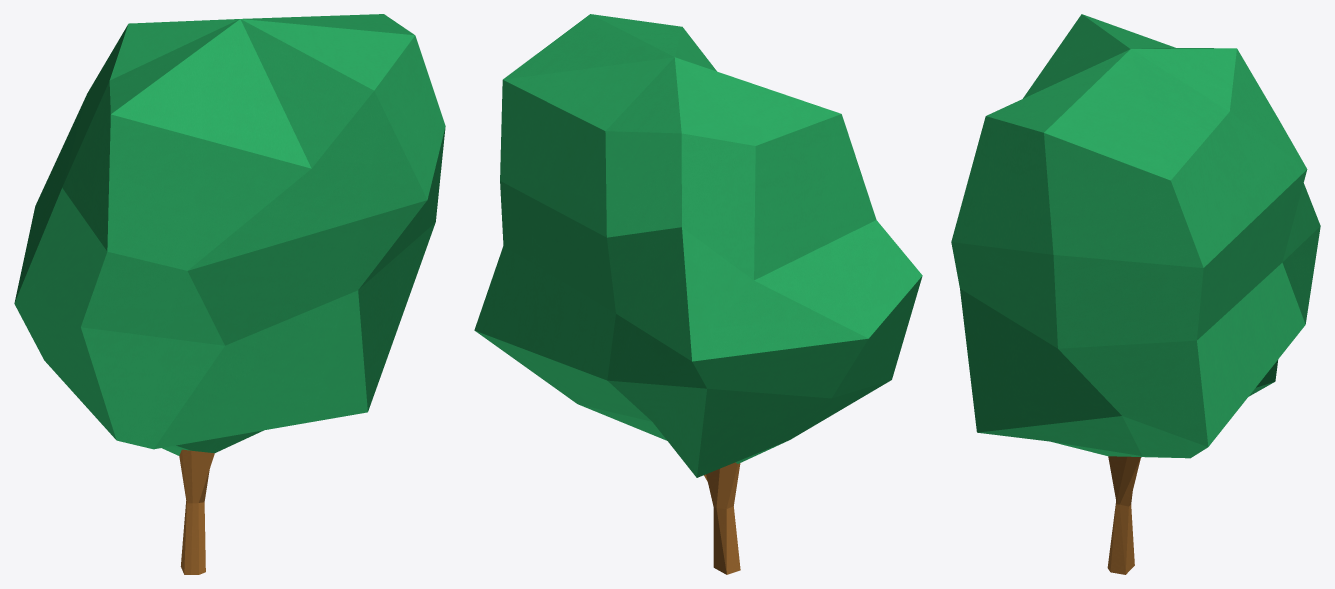
The model's file is Tree.fbx.
3 renders of one model, left to right at view 1: azimuth 30°, elevation 25°; view 2: azimuth 150°, elevation 25°; view 3: azimuth 270°, elevation 25°, orthographic. The views are drawn at different scales.
Parts seen in each view (by area): view 1: Tree_PROXY; view 2: Tree_PROXY; view 3: Tree_PROXY.
Part boxes in pixels (x1,y1,x2,y2): Tree_PROXY: (14, 14, 445, 574); Tree_PROXY: (474, 14, 922, 574); Tree_PROXY: (951, 14, 1320, 574).
Size of the model in its own units: 7.31 by 9.57 by 5.87.
Materials: 2 (2 with a texture image).
